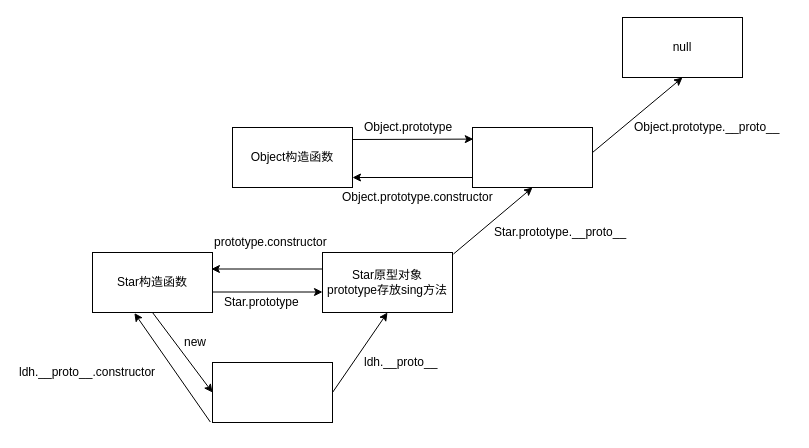
This 809x448 diagram has some shape labels left out. Here are the shapes that lost their labels. From the top down, the box of each, then its label:
(472, 126, 592, 188): Object原型对象 prototype
(212, 362, 332, 422): ldh对象实例
